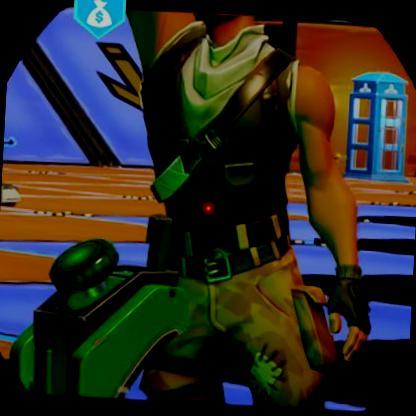person: (146, 10, 308, 364)
